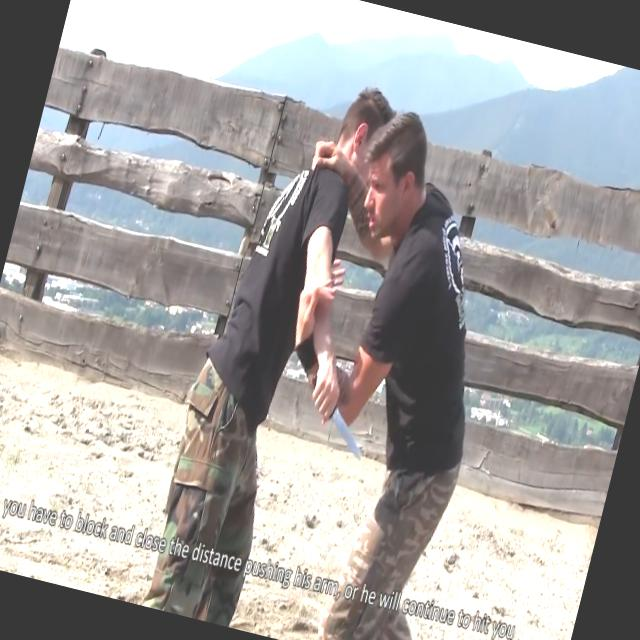knife: (291, 368, 386, 470)
